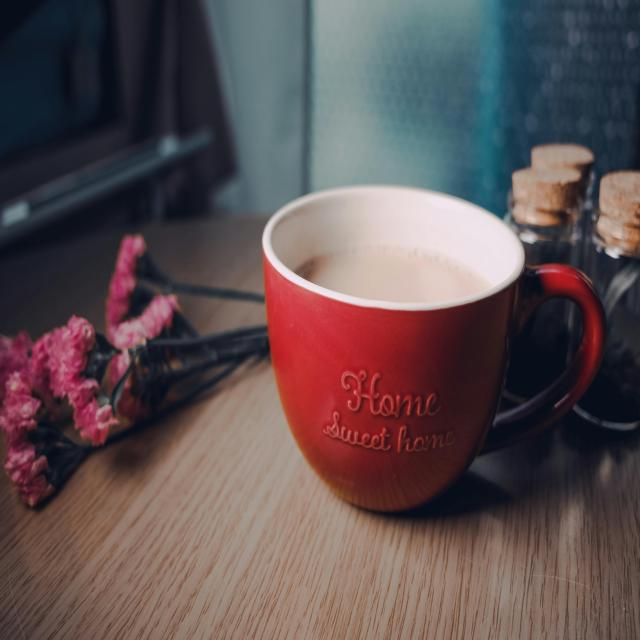Red_cup: (263, 186, 605, 511)
